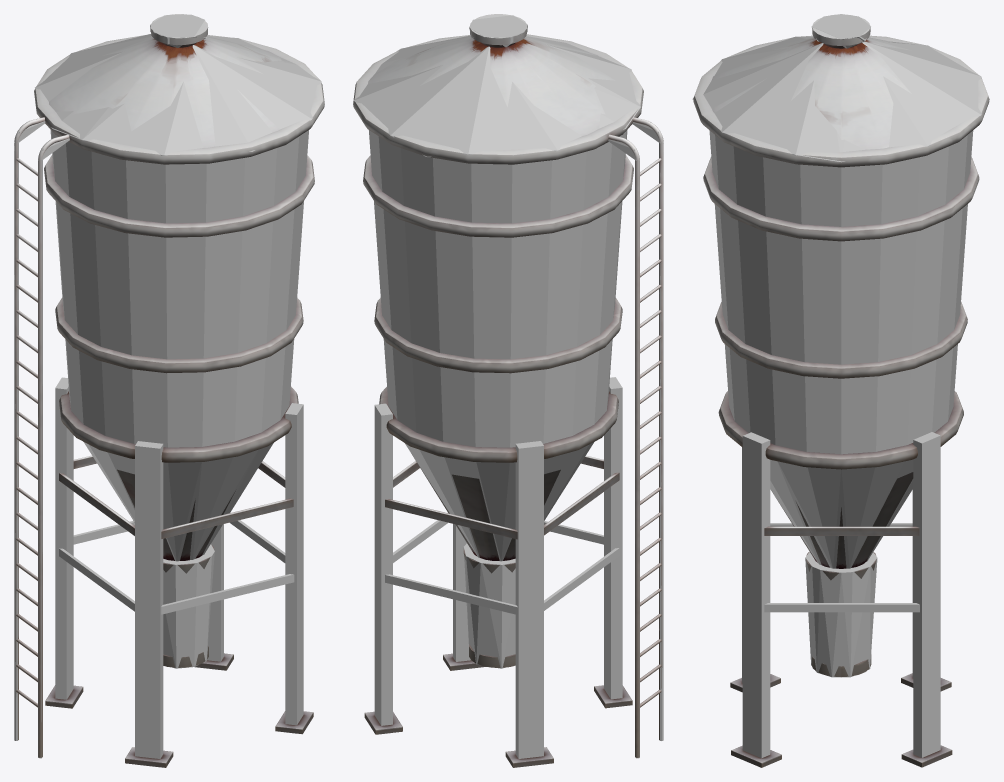
Rendered from SM_StorageTank02.fbx.
3 renders of one model, left to right at view 1: azimuth 30°, elevation 25°; view 2: azimuth 150°, elevation 25°; view 3: azimuth 270°, elevation 25°, orthographic.
Parts seen in each view (by area): view 1: SM_StorageTank02_ConvexHulls, SM_StorageTank02; view 2: SM_StorageTank02_ConvexHulls, SM_StorageTank02; view 3: SM_StorageTank02_ConvexHulls, SM_StorageTank02.
Boxes of the visible parts, x1,y1,x2,y2 form: SM_StorageTank02_ConvexHulls: (14,14,321,758); SM_StorageTank02: (14,14,324,767); SM_StorageTank02_ConvexHulls: (354,15,663,758); SM_StorageTank02: (353,14,663,767); SM_StorageTank02_ConvexHulls: (692,14,981,758); SM_StorageTank02: (693,14,989,767).
Bounding box in the file's own units: 430 × 389 × 1007.
Materials: 2 (1 with a texture image).
